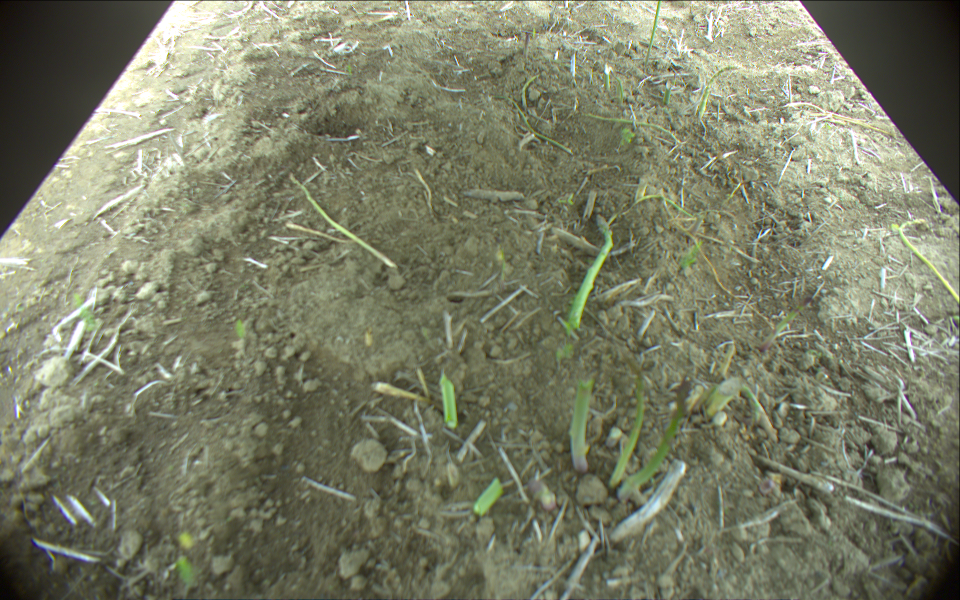aspa: (288, 169, 397, 268), (617, 379, 692, 497), (899, 218, 960, 311), (568, 211, 612, 327), (496, 92, 571, 153), (577, 109, 683, 142), (615, 384, 647, 488), (569, 379, 592, 470), (701, 64, 734, 118), (643, 1, 663, 65), (473, 477, 499, 514), (439, 376, 457, 427), (521, 72, 541, 107), (522, 30, 533, 55)
